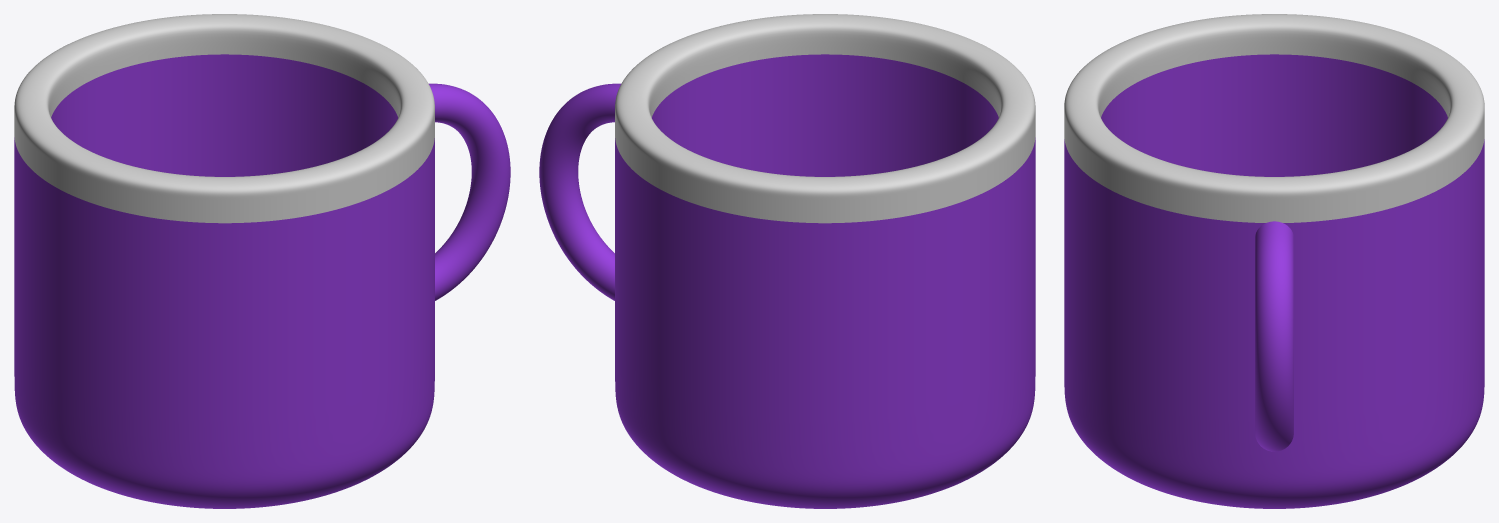
File: cup.glb
The picture shows the model from 3 angles, left to right: view 1: azimuth 30°, elevation 25°; view 2: azimuth 150°, elevation 25°; view 3: azimuth 270°, elevation 25°; orthographic projection.
Parts seen in each view (by area): view 1: Cup; view 2: Cup; view 3: Cup.
Part boxes in pixels (x1=…): Cup: x1=14, y1=14, x2=510, y2=508; Cup: x1=539, y1=14, x2=1035, y2=508; Cup: x1=1064, y1=14, x2=1484, y2=508.
Size of the model in its own units: 1.94 by 1.39 by 1.52.
